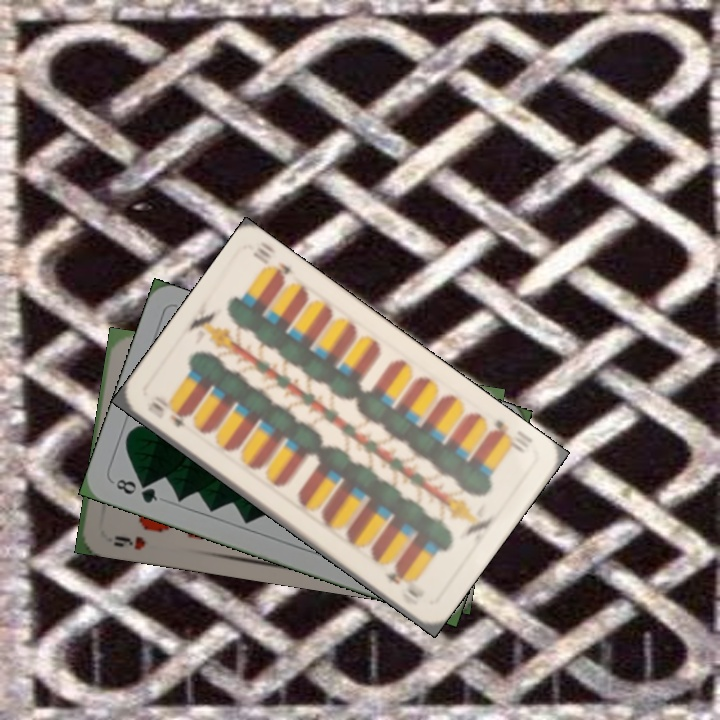E10: (484, 415, 528, 454), (143, 397, 188, 430)
G8: (111, 475, 161, 506)
H9: (110, 531, 148, 552)
